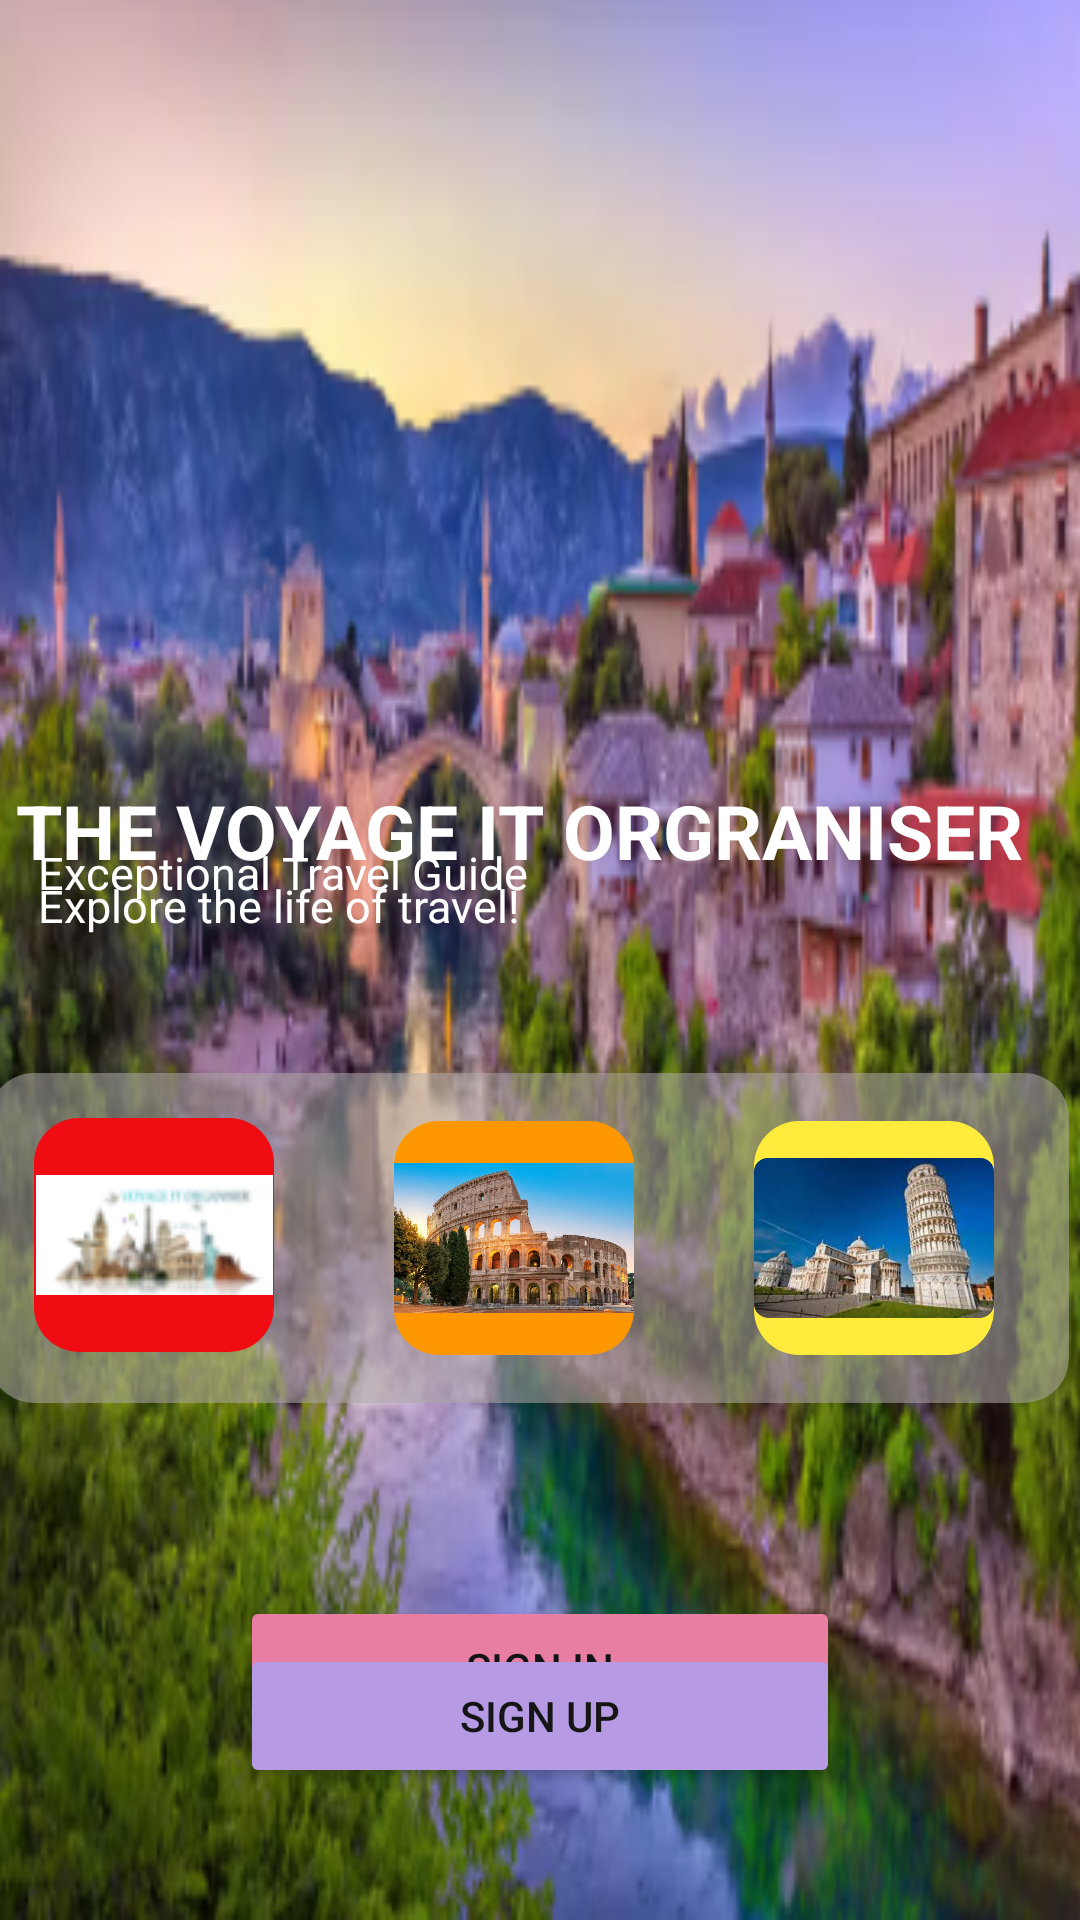

Point at icon controls on the screen. Image size 1080 × 1920, points as (x=x, y=y).
app: (x=154, y=1235)
historical: (x=514, y=1238)
